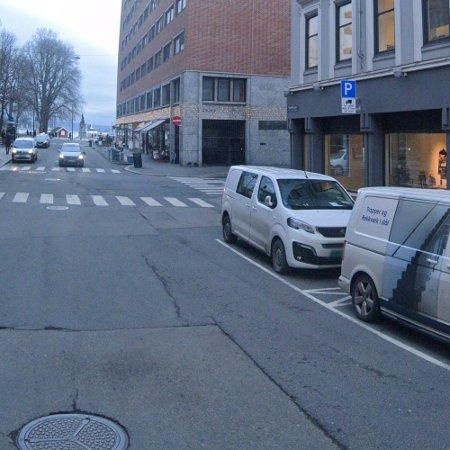crosswalk: (0, 190, 215, 208)
